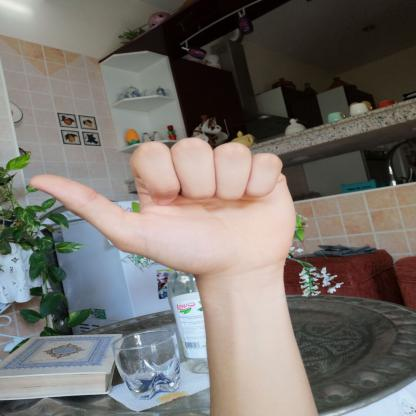DAD: (14, 128, 307, 286)
